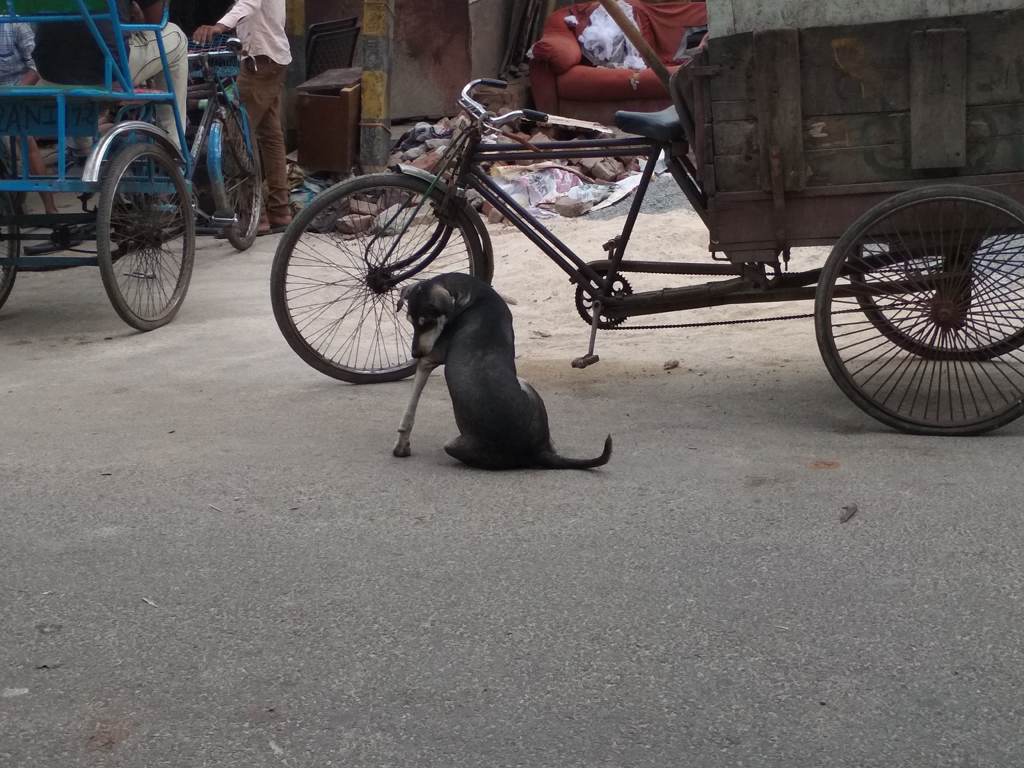dog: (392, 272, 612, 470)
